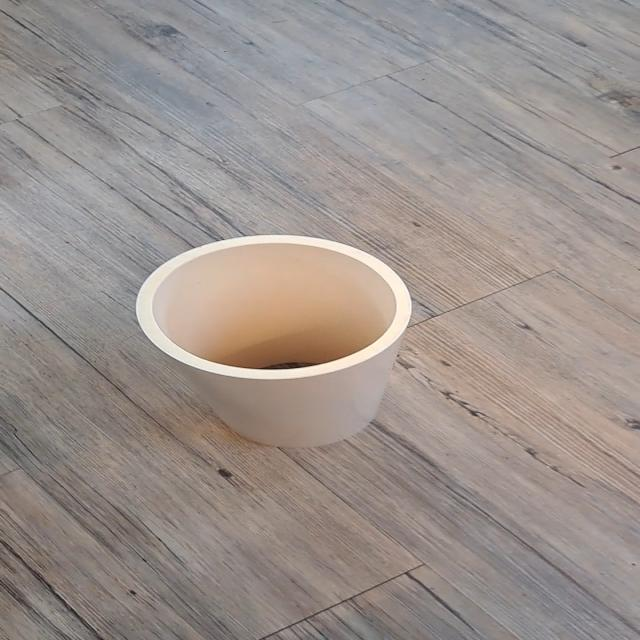CORAL: (101, 229, 442, 461)
